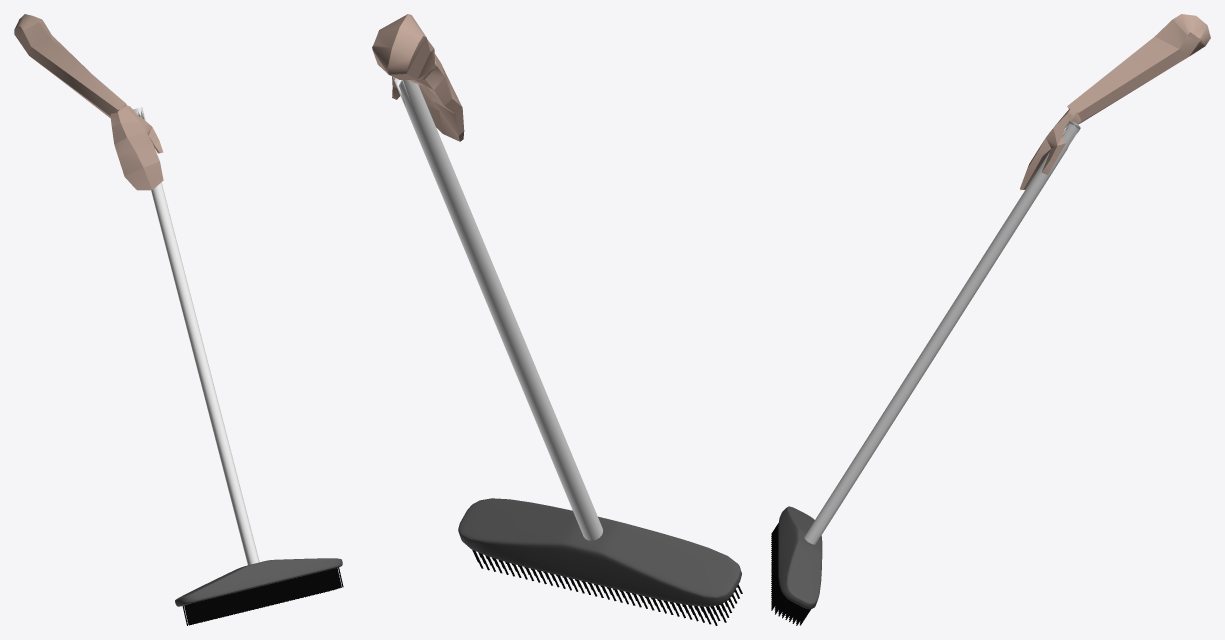
File: braIzq.obj
3 views of the same model, side by side, from view 1: azimuth 30°, elevation 25°; view 2: azimuth 150°, elevation 25°; view 3: azimuth 270°, elevation 25° (orthographic). The views are drawn at different scales.
Parts seen in each view (by area): view 1: Line398; view 2: Line398; view 3: Line398.
Boxes of the visible parts, x1,y1,x2,y2 form: Line398: [14, 14, 343, 625]; Line398: [372, 14, 742, 625]; Line398: [771, 14, 1210, 625].
Bounding box in the file's own units: 0.4344 × 1.25 × 0.9148.
